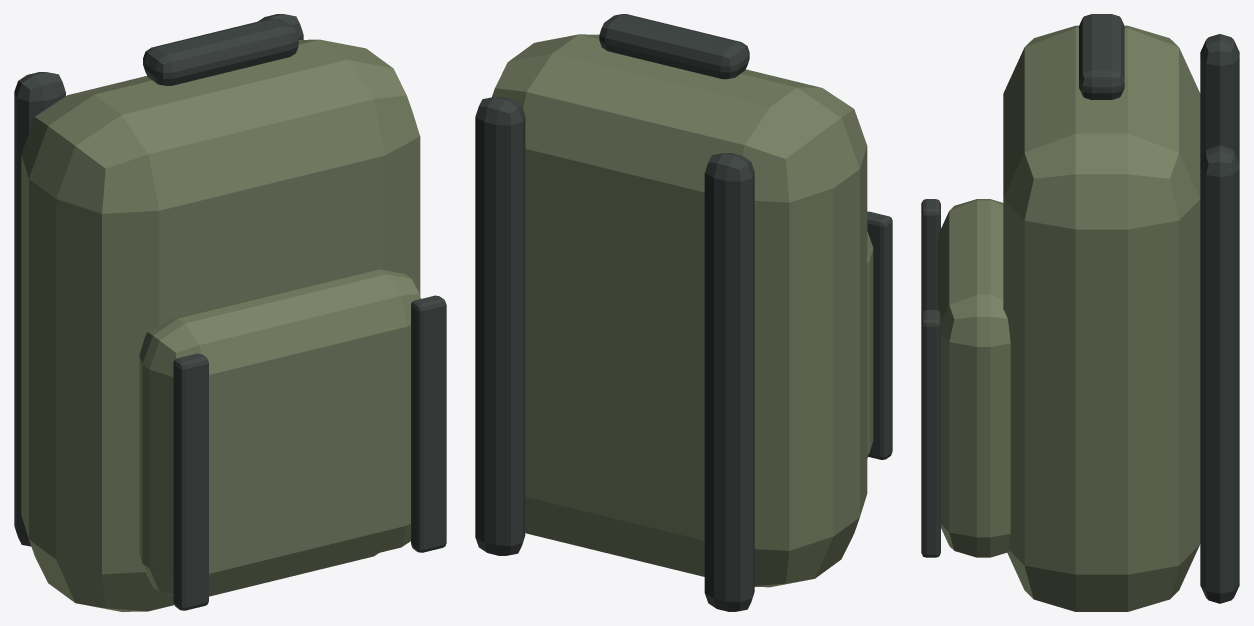
Rendered from backpack.glb.
The picture shows the model from 3 angles, left to right: view 1: azimuth 30°, elevation 25°; view 2: azimuth 150°, elevation 25°; view 3: azimuth 270°, elevation 25°; orthographic projection. The views are drawn at different scales.
Visible parts, largest first — view 1: Cube; view 2: Cube; view 3: Cube.
Boxes of the visible parts, x1,y1,x2,y2 form: Cube: (14,14,446,611); Cube: (475,14,892,611); Cube: (921,14,1239,611).
Bounding box in the file's own units: 0.3468 × 0.5 × 0.2803.
